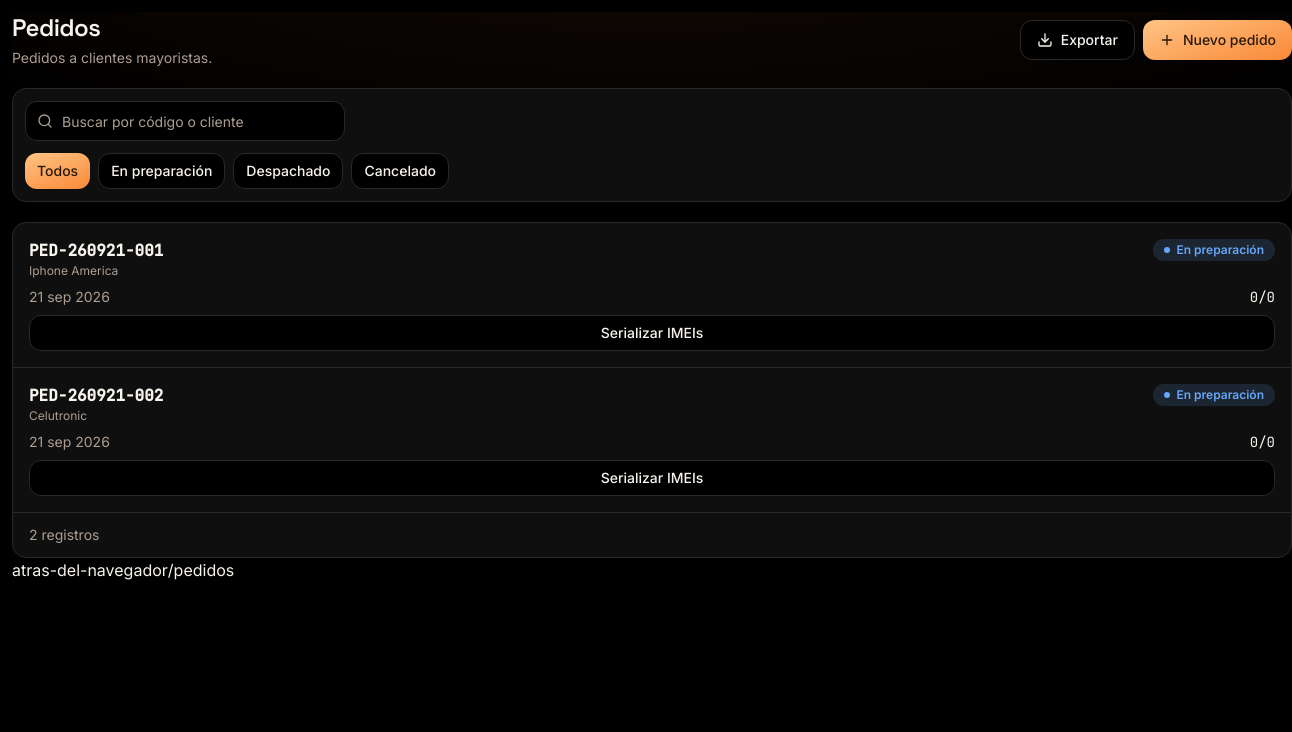
Test: Pedidos · la búsqueda se conserva al ver un pedido y volver › escribir en el buscador queda en la dirección
This screenshot has width=1292, height=732.
Type "Iphone America" into the field with placeholder "Buscar por código o cliente" at coordinates (185, 121), box x1=25 y1=101 x2=345 y2=141
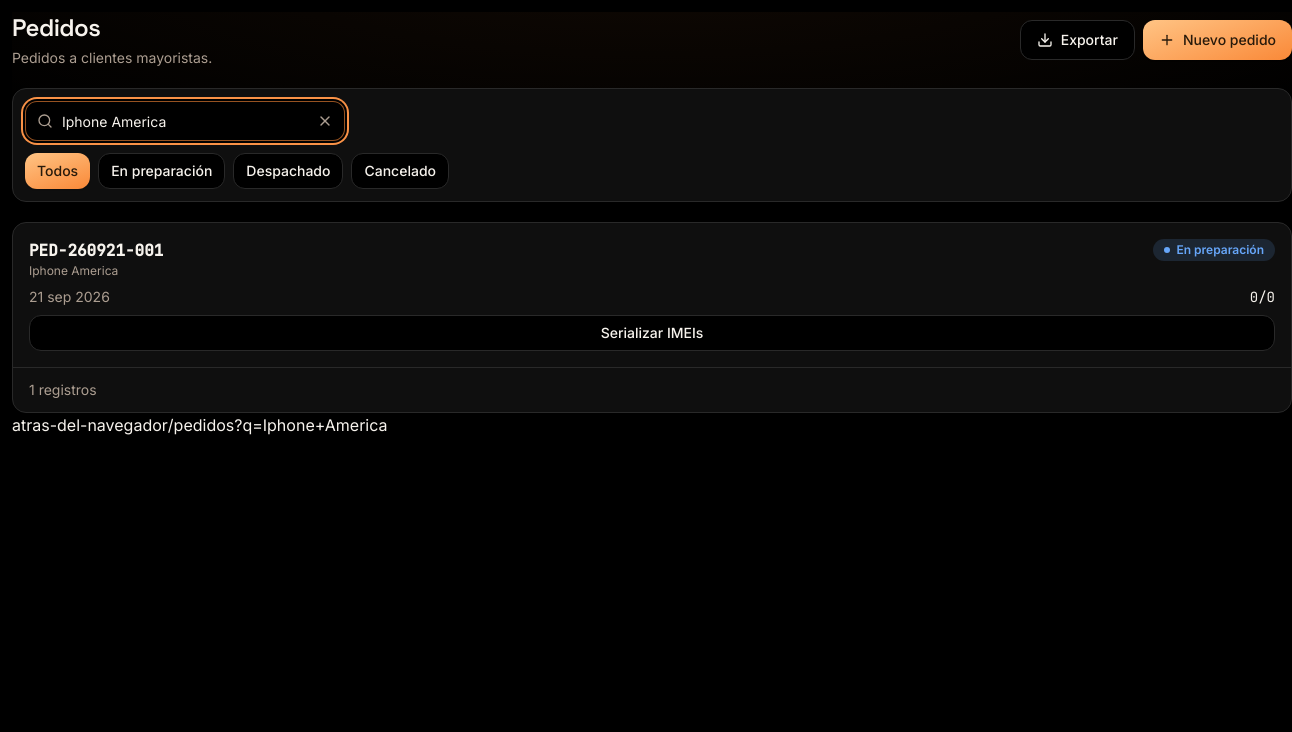
Check: the text with test id "ruta" reads "/pedidos?q=Iphone+America", box x1=168 y1=415 x2=388 y2=435
